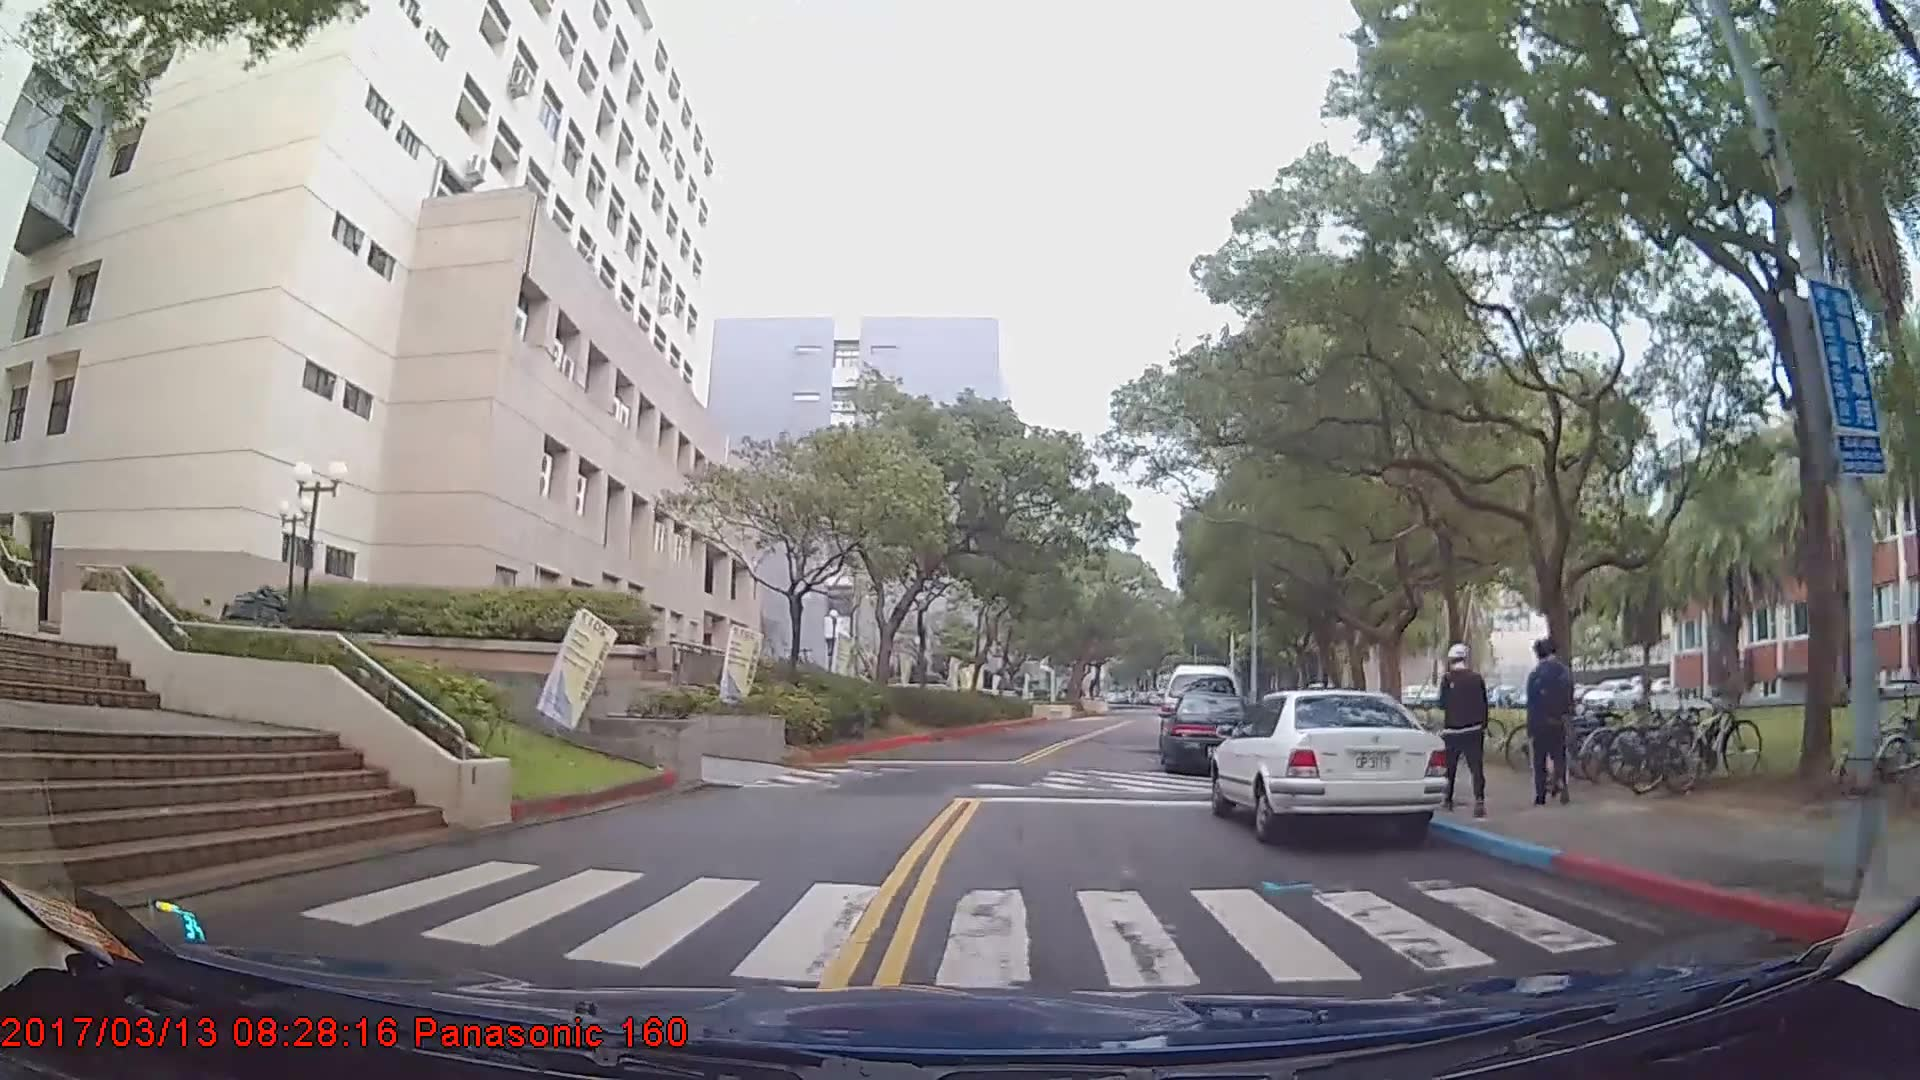pedestrian: (1523, 631, 1580, 807), (1438, 640, 1493, 808)
vehicle: (1209, 686, 1449, 844), (1161, 688, 1260, 770)
